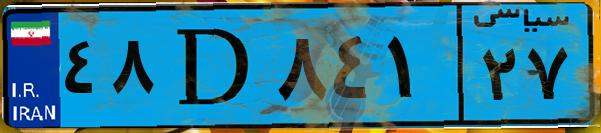1: (385, 28, 445, 110)
2: (475, 38, 525, 113)
4: (330, 28, 385, 110), (57, 26, 110, 100)
7: (525, 38, 570, 115)
8: (270, 28, 330, 110), (110, 28, 158, 98)
D: (158, 12, 270, 120)
